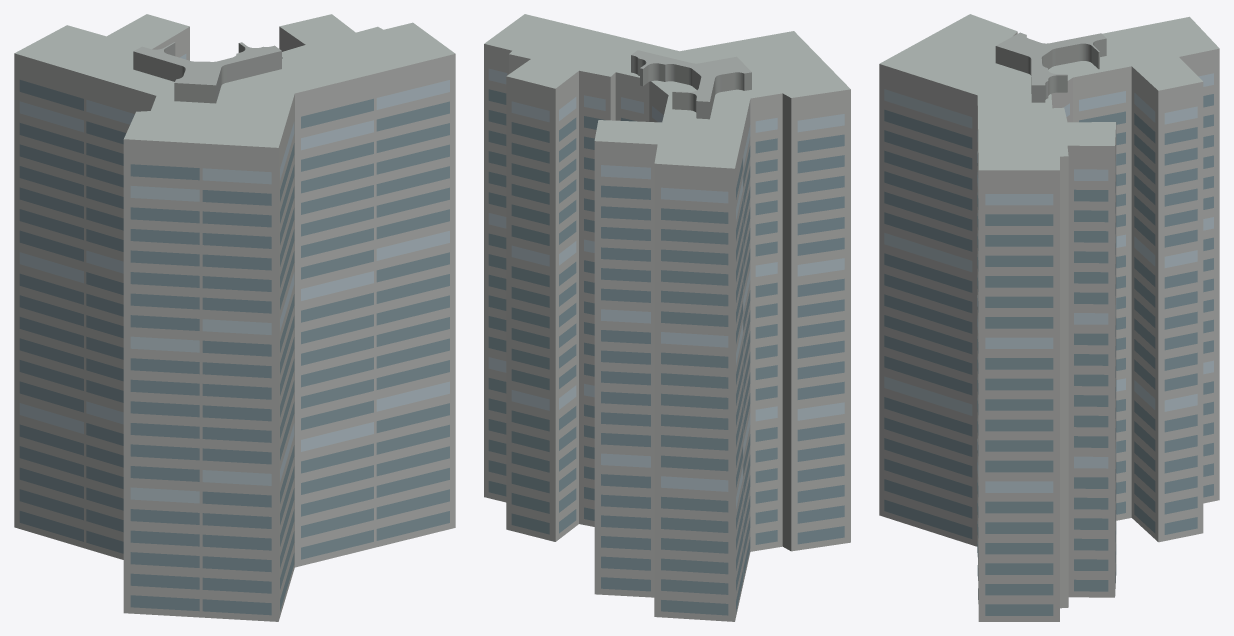
Rendered from fallback-godeok-central-ipark-501.glb.
3 renders of one model, left to right at view 1: azimuth 30°, elevation 25°; view 2: azimuth 150°, elevation 25°; view 3: azimuth 270°, elevation 25°, orthographic. The views are drawn at different scales.
Visible parts, largest first — view 1: fallback-godeok-central-ipark-501; view 2: fallback-godeok-central-ipark-501; view 3: fallback-godeok-central-ipark-501.
Boxes of the visible parts, x1=… form: fallback-godeok-central-ipark-501: x1=14, y1=14, x2=455, y2=621; fallback-godeok-central-ipark-501: x1=484, y1=14, x2=850, y2=621; fallback-godeok-central-ipark-501: x1=879, y1=14, x2=1219, y2=621.
Bounding box in the file's own units: 46.55 × 65 × 42.78.
